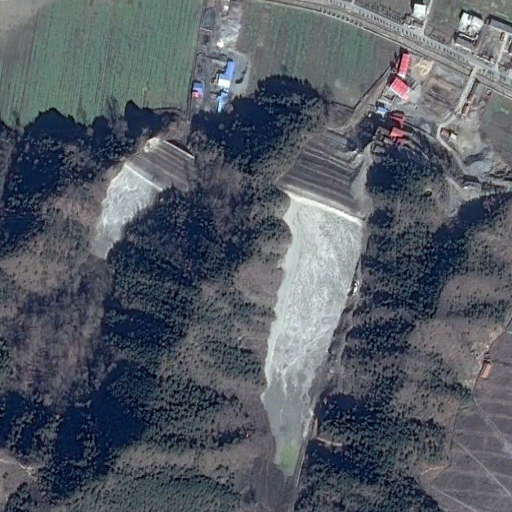tp: (258, 136, 367, 477), (93, 133, 193, 263)
